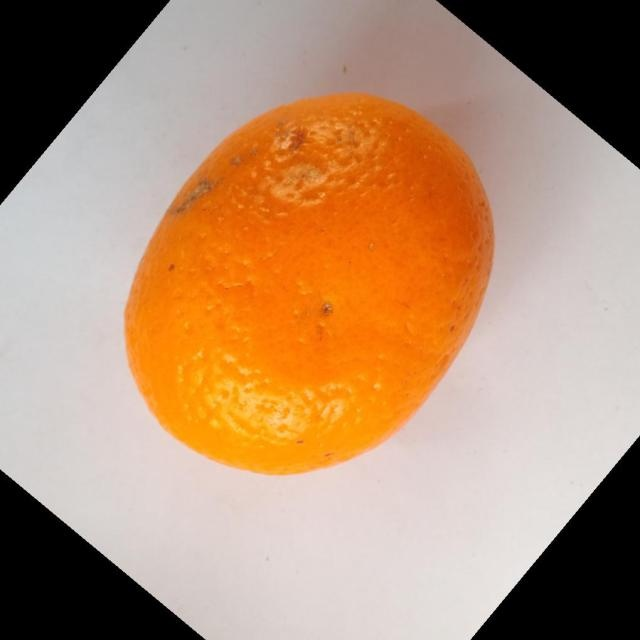agrume: (122, 91, 496, 477)
